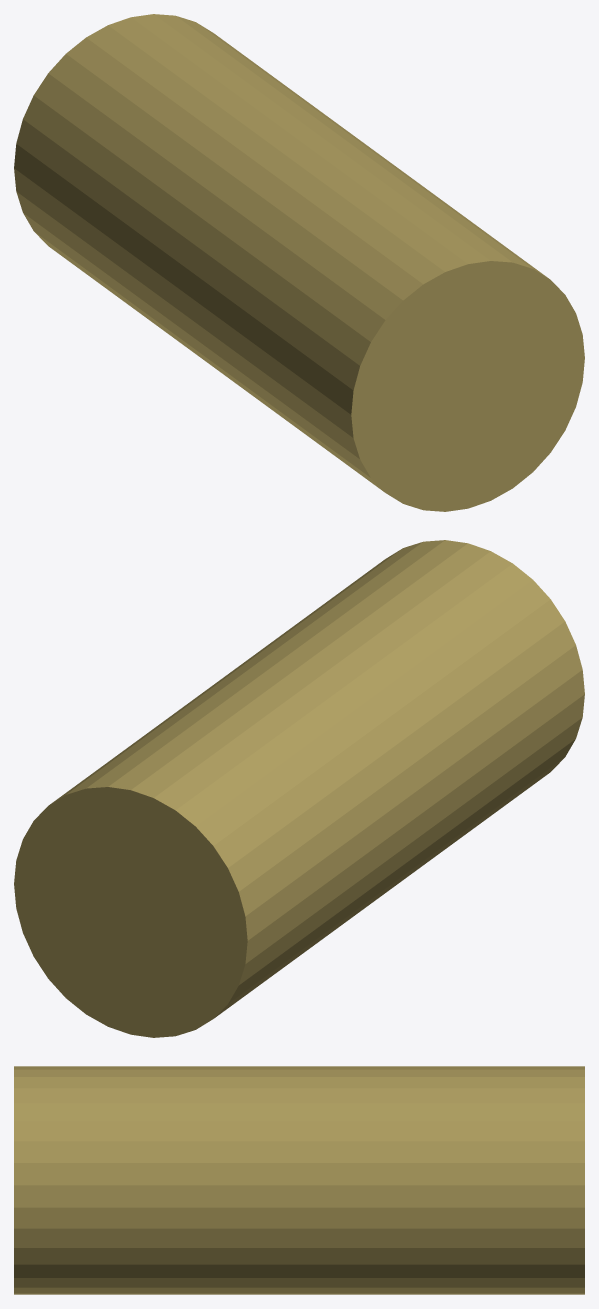
File: outer-barrel.glb
3 views of the same model, one above another, from view 1: azimuth 30°, elevation 25°; view 2: azimuth 150°, elevation 25°; view 3: azimuth 270°, elevation 25° (orthographic). The views are drawn at different scales.
Parts seen in each view (by area): view 1: world; view 2: world; view 3: world.
Boxes of the visible parts, x1=… form: world: x1=14, y1=14, x2=584, y2=511; world: x1=14, y1=540, x2=584, y2=1037; world: x1=14, y1=1066, x2=584, y2=1294.
Size of the model in its own units: 0.8 by 0.8 by 2.
